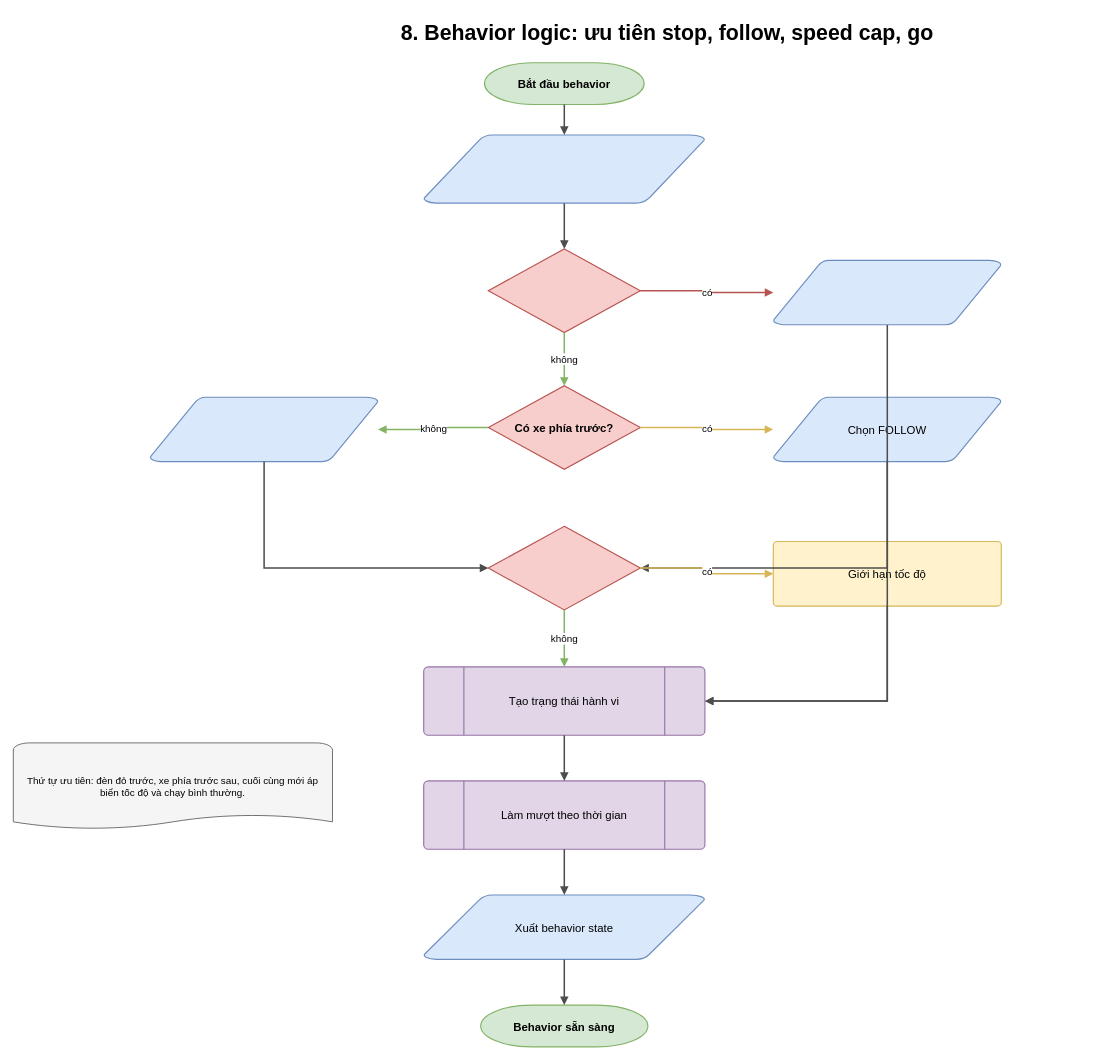
This 1106x1060 diagram has some shape labels left out. Here are the shapes that lost their labels. From the top down, the box of each, then its label:
(423, 134, 705, 204): Nhận object state và trạng thái lane
(487, 248, 641, 333): Có đèn đỏ hiệu lực?
(772, 259, 1002, 325): Chọn STOP
(149, 396, 378, 462): Chọn GO
(487, 525, 641, 610): Có biển tốc độ?
